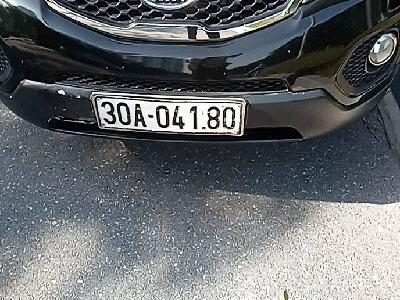lisence: (90, 89, 246, 138)
